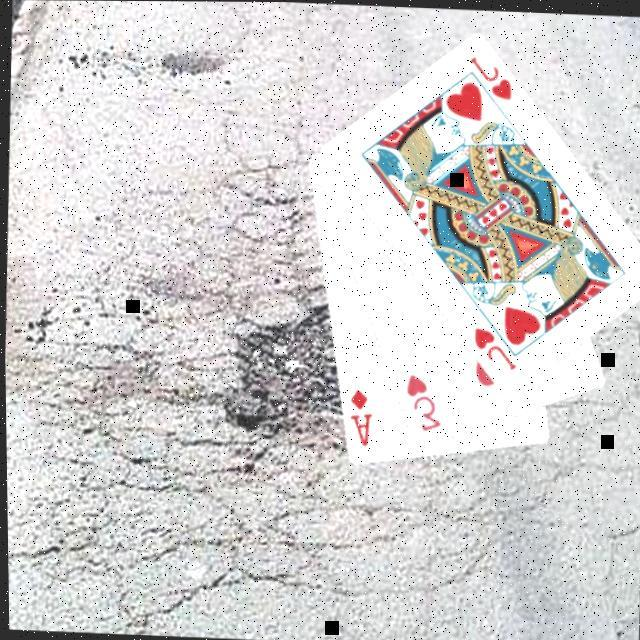3H: (400, 368, 445, 433)
AD: (344, 384, 375, 447)
JH: (468, 321, 521, 371), (464, 51, 517, 101)
